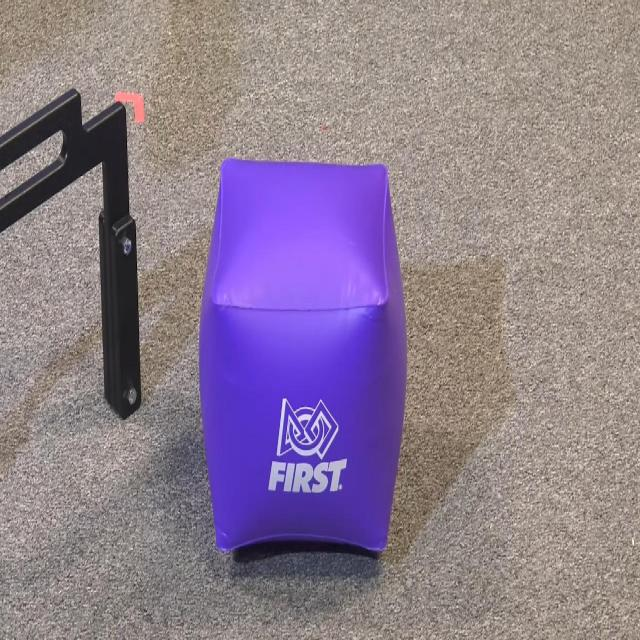frc_cube: (199, 159, 406, 559)
